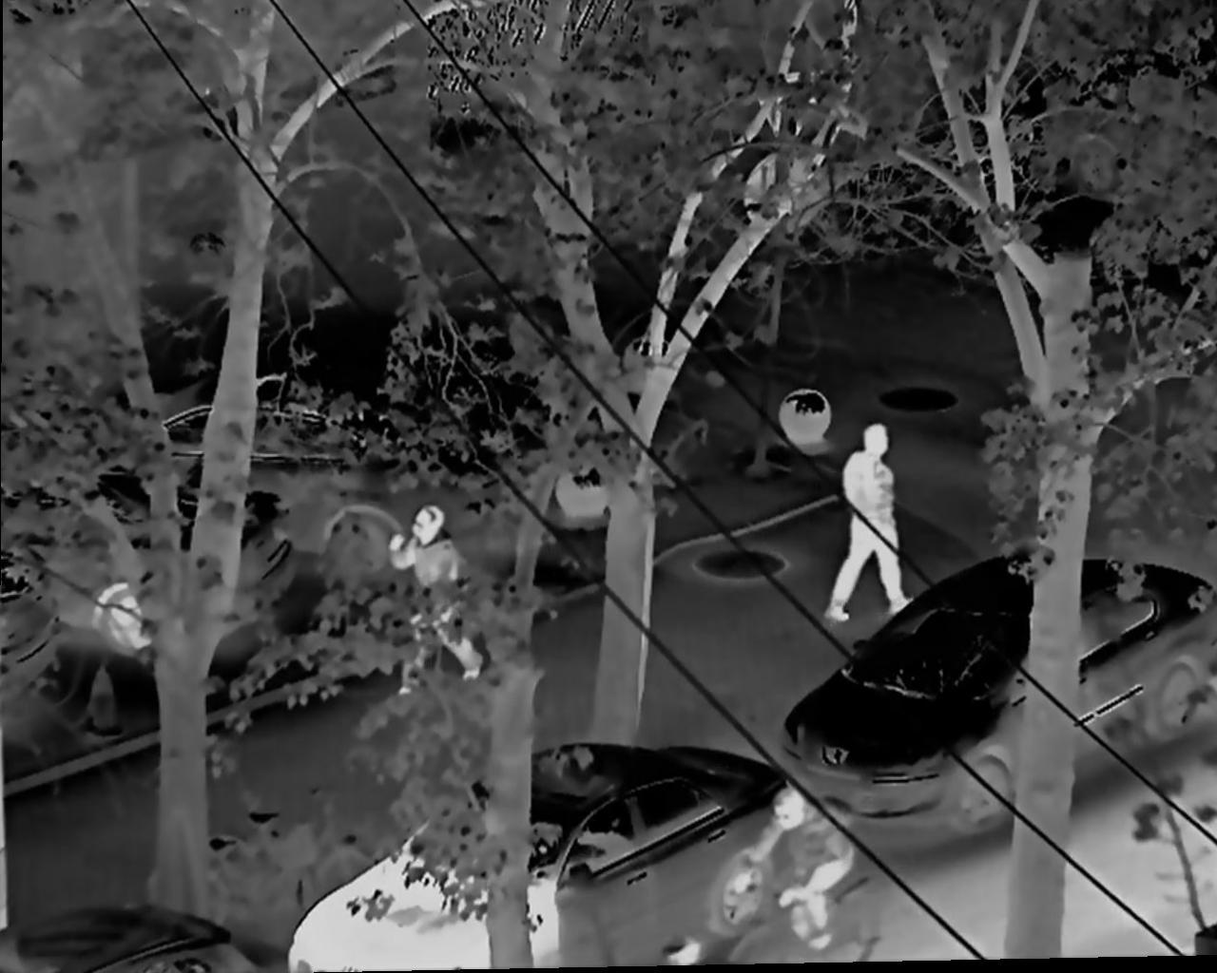person: (825, 426, 915, 623), (746, 788, 853, 948), (394, 505, 482, 686)
